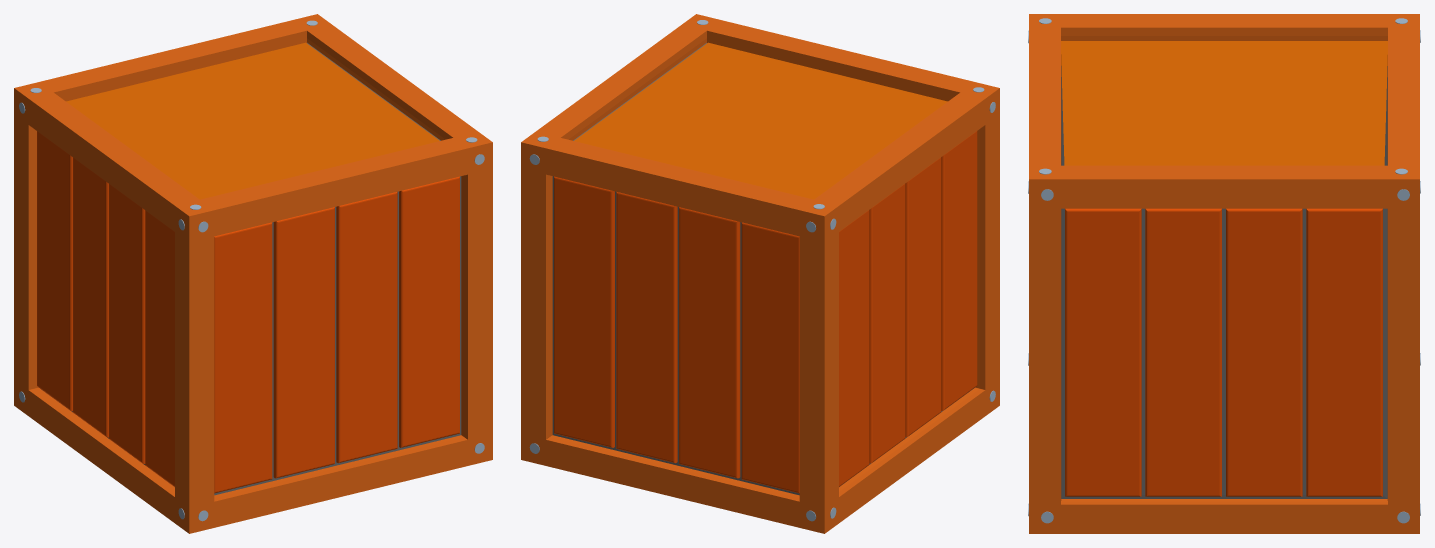
Rendered from 4x0 kutija final.fbx.
3 renders of one model, left to right at view 1: azimuth 30°, elevation 25°; view 2: azimuth 150°, elevation 25°; view 3: azimuth 270°, elevation 25°, orthographic. The views are drawn at different scales.
Parts seen in each view (by area): view 1: Cube.203; view 2: Cube.203; view 3: Cube.203.
Boxes of the visible parts, bbox=[...] form: Cube.203: bbox=[14, 14, 492, 533]; Cube.203: bbox=[521, 14, 999, 533]; Cube.203: bbox=[1028, 14, 1420, 533].
Size of the model in its own units: 201 by 200 by 201.
